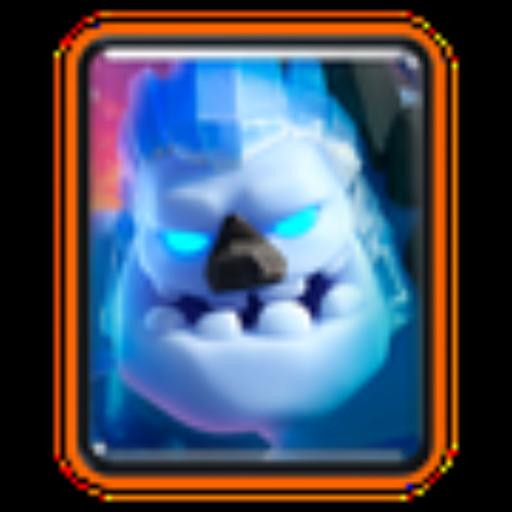ice-golem: (76, 52, 430, 472)
